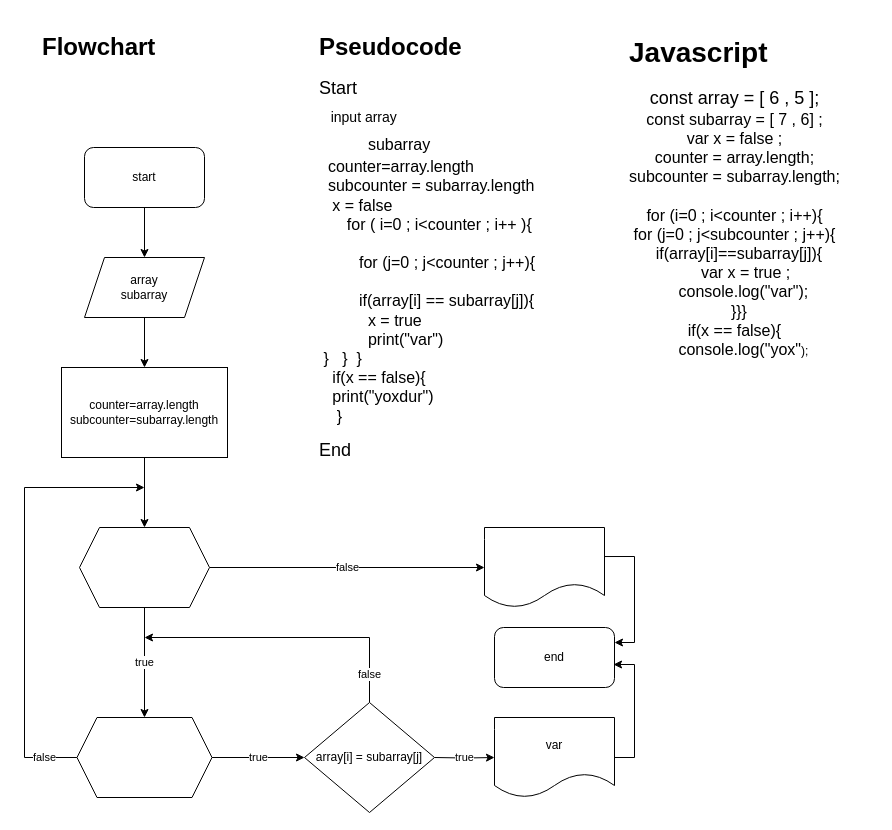
The diagram is 892 pixels wide and 830 high, and some of its shapes have lost their labels. Here are the shapes that lost their labels. From the top down, the box of each, then its label:
(78, 526, 210, 608): i=0 ; i<counter ; i++
(484, 526, 604, 608): yoxdur
(76, 716, 212, 798): j=0 ; j<subcounter ; j++
